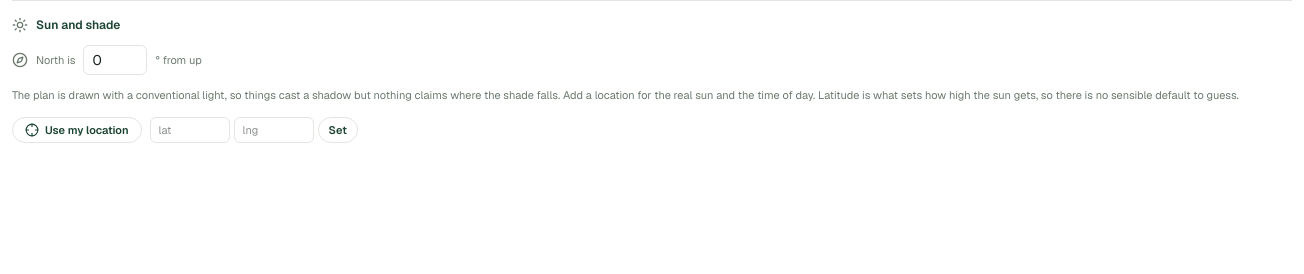
Scenario: location, which is the gate › accepts typed coordinates and reveals the sun controls
Step 1. Type "53.4" into the number field with test id "manual-latitude" → (190, 130), box [150,117,230,143]
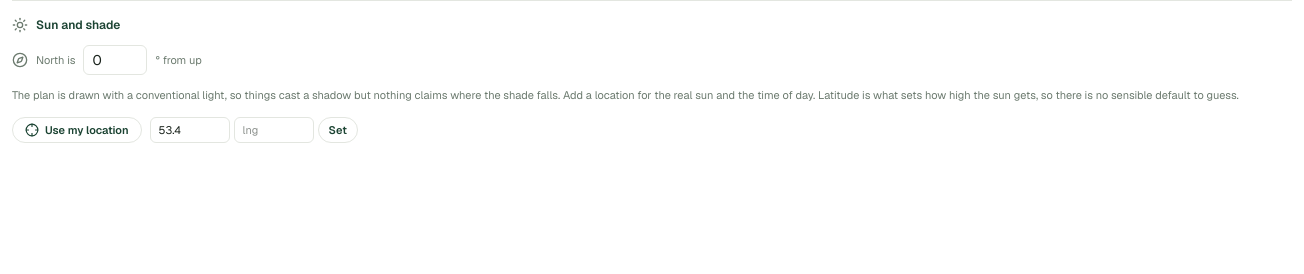
Step 2. Type "-2.98" into the number field with test id "manual-longitude" → (274, 130), box [234,117,314,143]
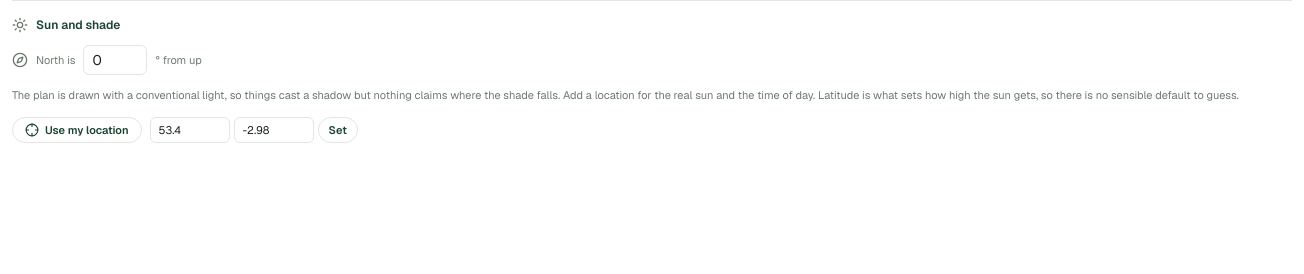
Step 3. Click the button with test id "set-location" → (338, 130), box [318,117,358,143]
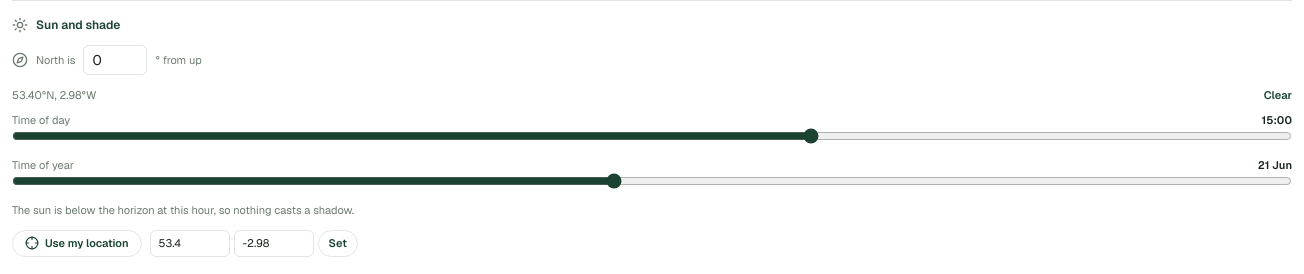
Expected: the text with test id "sun-located" reads "53.40°N, 2.98°W", [12,87,96,104]
Expected: the text "15:00" is shown, [1262,112,1292,128]
